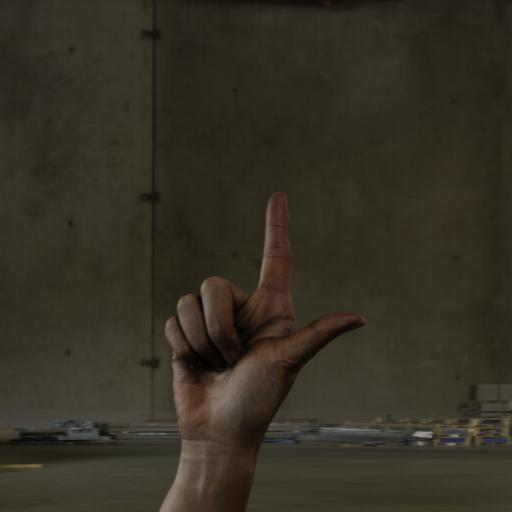L: (157, 186, 369, 455)
